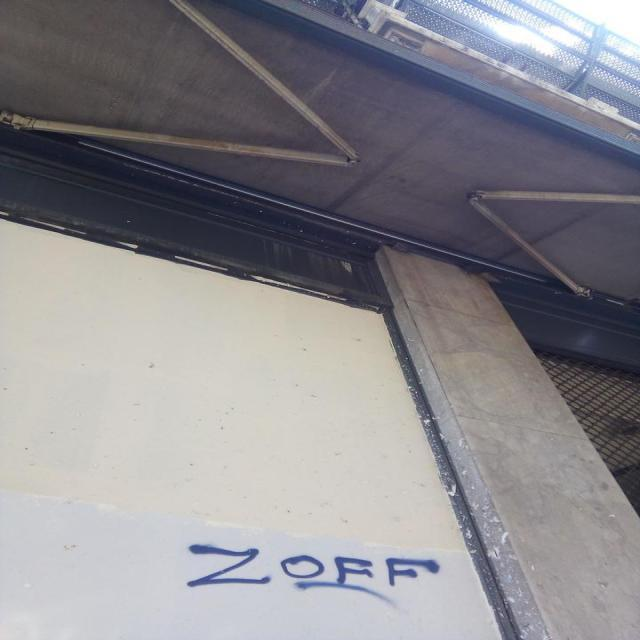nonspitting: (187, 544, 440, 596)
